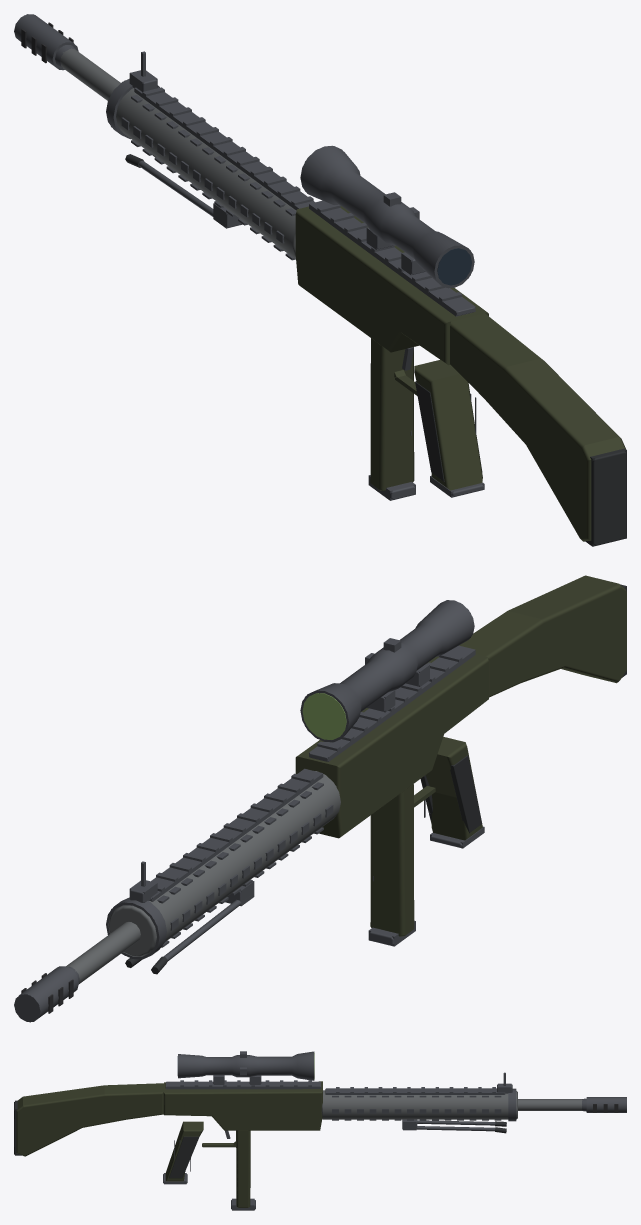
File: dmr.glb
3 renders of one model, top to bottom at view 1: azimuth 30°, elevation 25°; view 2: azimuth 150°, elevation 25°; view 3: azimuth 270°, elevation 25°, orthographic. The views are drawn at different scales.
Visible parts, largest first — view 1: L0, L1; view 2: L0, L1; view 3: L0, L1.
Part boxes in pixels (bbox=[...]): L0: bbox=[14, 14, 626, 545]; L1: bbox=[15, 15, 626, 546]; L0: bbox=[14, 575, 626, 1021]; L1: bbox=[14, 585, 626, 1022]; L0: bbox=[14, 1051, 626, 1209]; L1: bbox=[15, 1051, 626, 1210].
Size of the model in its own units: 0.0572 by 0.3 by 1.08.
